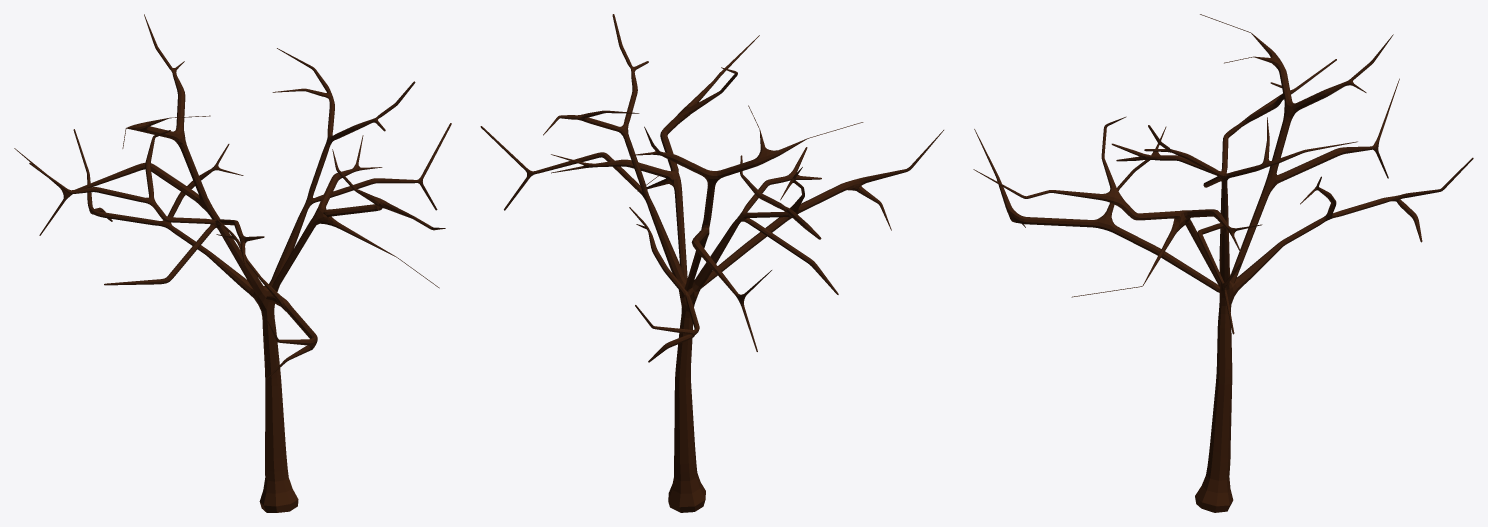
The model's file is TREE 3 (NAKED).fbx.
3 views of the same model, side by side, from view 1: azimuth 30°, elevation 25°; view 2: azimuth 150°, elevation 25°; view 3: azimuth 270°, elevation 25° (orthographic). The views are drawn at different scales.
Parts seen in each view (by area): view 1: TREE 3.011; view 2: TREE 3.011; view 3: TREE 3.011.
Boxes of the visible parts, bbox=[...] form: TREE 3.011: bbox=[14, 14, 451, 512]; TREE 3.011: bbox=[480, 14, 943, 512]; TREE 3.011: bbox=[973, 14, 1473, 512].
Size of the model in its own units: 820 by 925 by 930.
